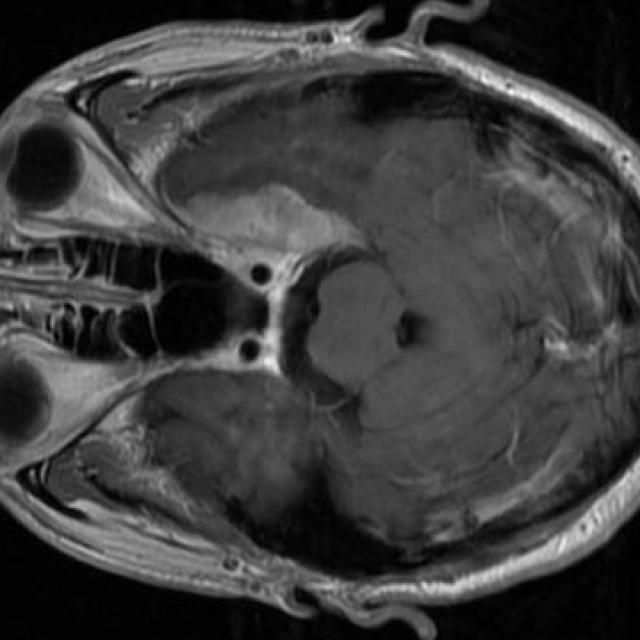meningioma: (187, 185, 355, 253)
